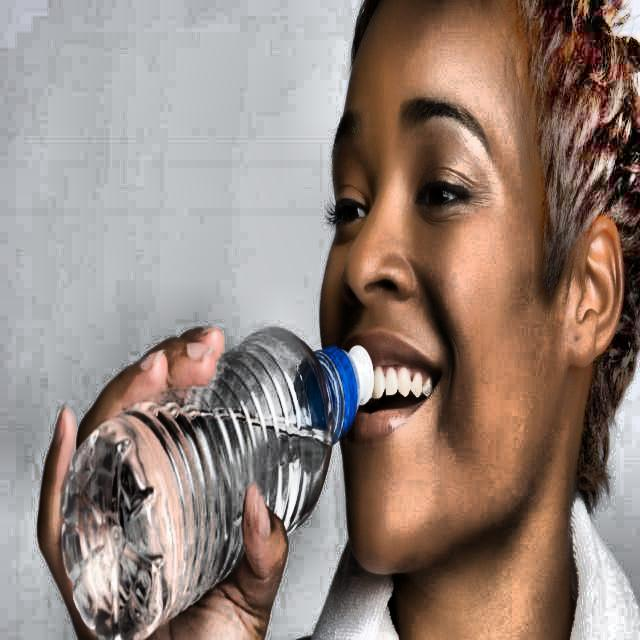plastic bottle: (61, 330, 374, 640)
